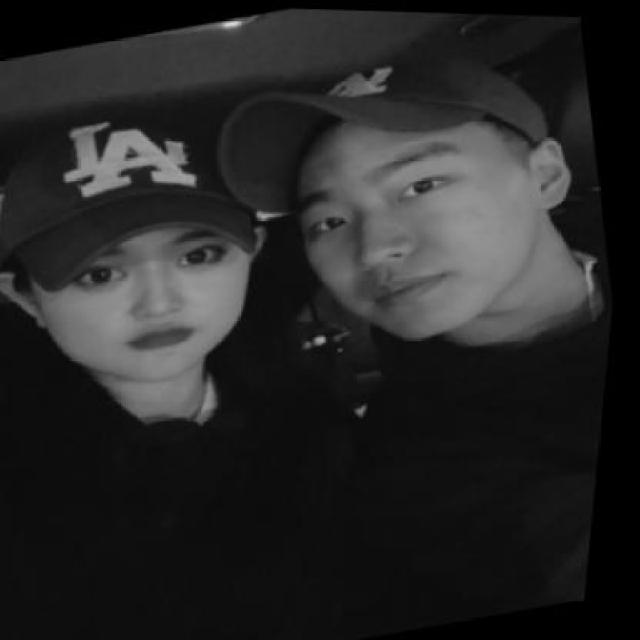hat: (202, 22, 567, 235), (0, 69, 295, 306)
